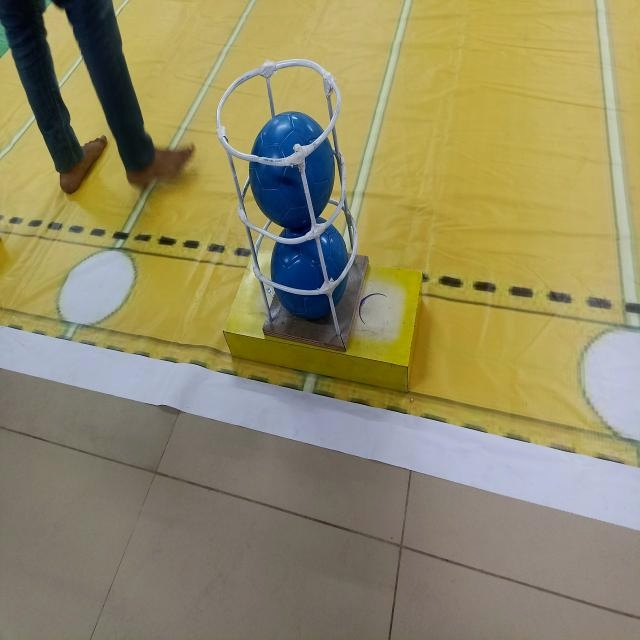blue_ball: (251, 111, 329, 223), (273, 221, 341, 314)
silo: (220, 59, 402, 385)
